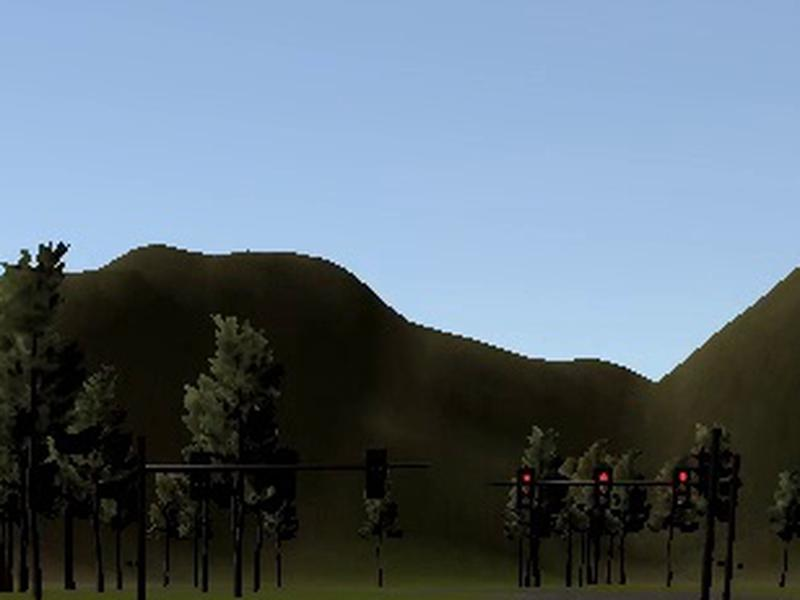Red: (671, 468, 691, 509), (593, 466, 611, 508), (517, 468, 534, 508)
